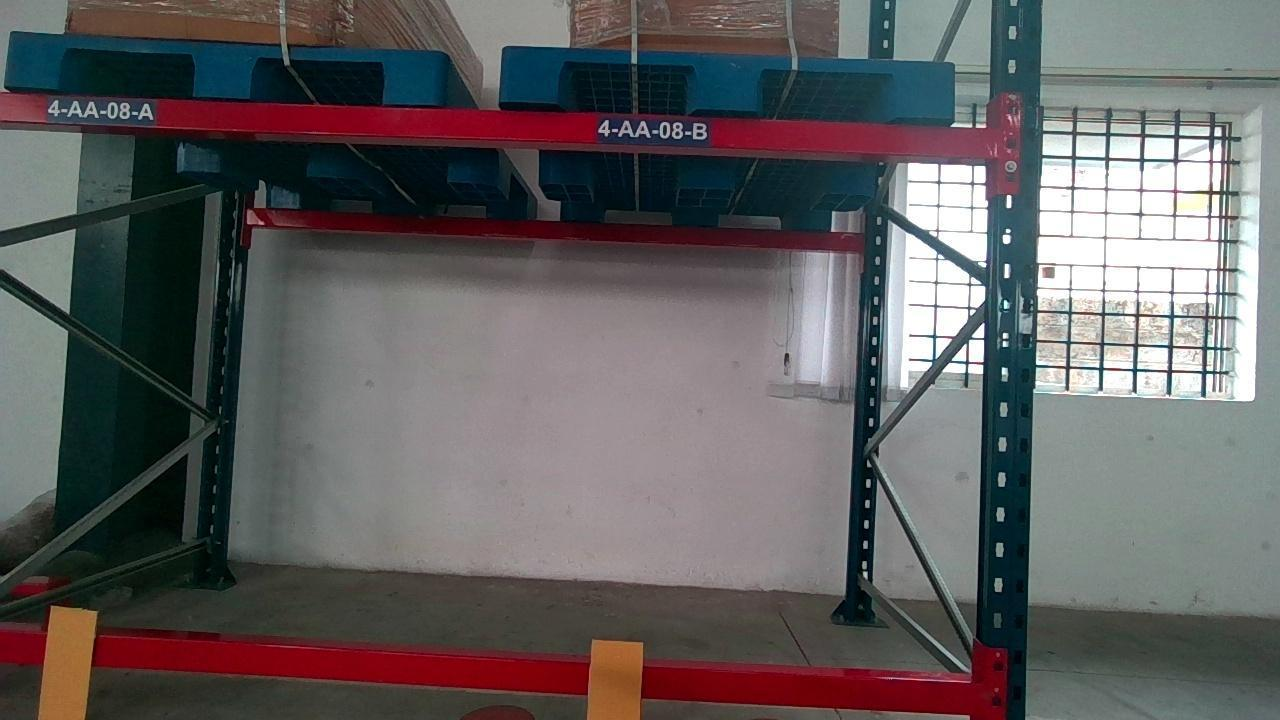h_rack: (0, 614, 989, 713), (9, 94, 998, 153)
orange_strip: (39, 608, 95, 719), (588, 639, 644, 719)
small_pallet: (499, 47, 957, 115), (5, 37, 443, 99)
